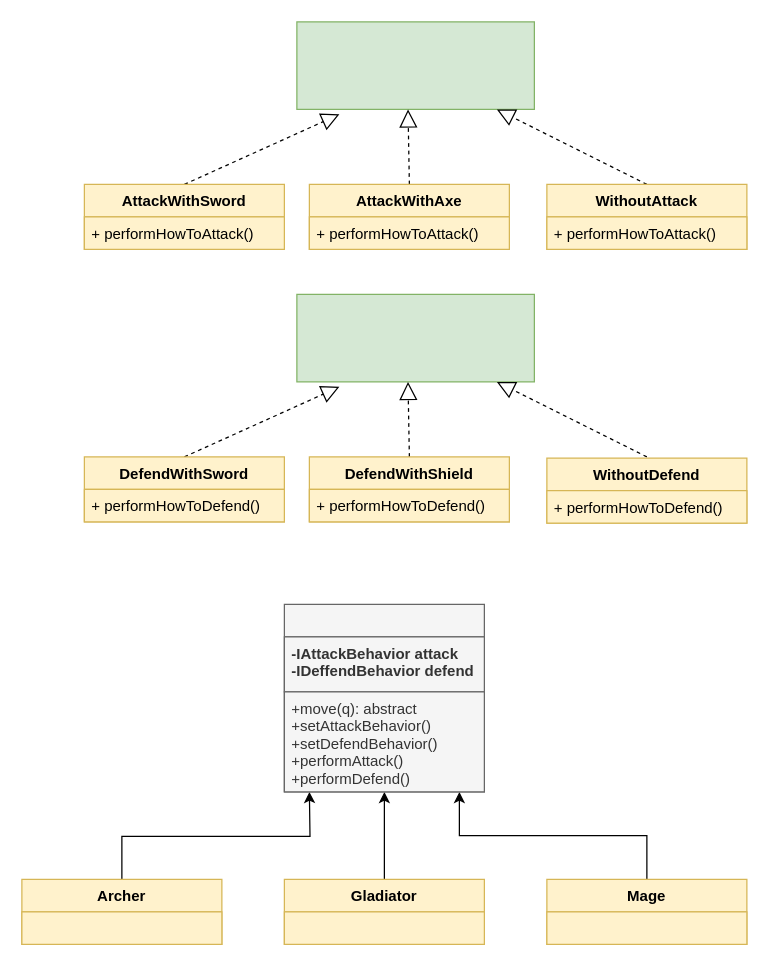
This 769x966 diagram has some shape labels left out. Each missing label, with the box of its shape:
<<Interface>> IAttackBehavior + performHowToAttack(): (296, 21, 534, 109)
<<Interface>> IDefendBehavior + performHowToDefend(): (296, 293, 534, 382)
Character: (283, 603, 484, 792)
